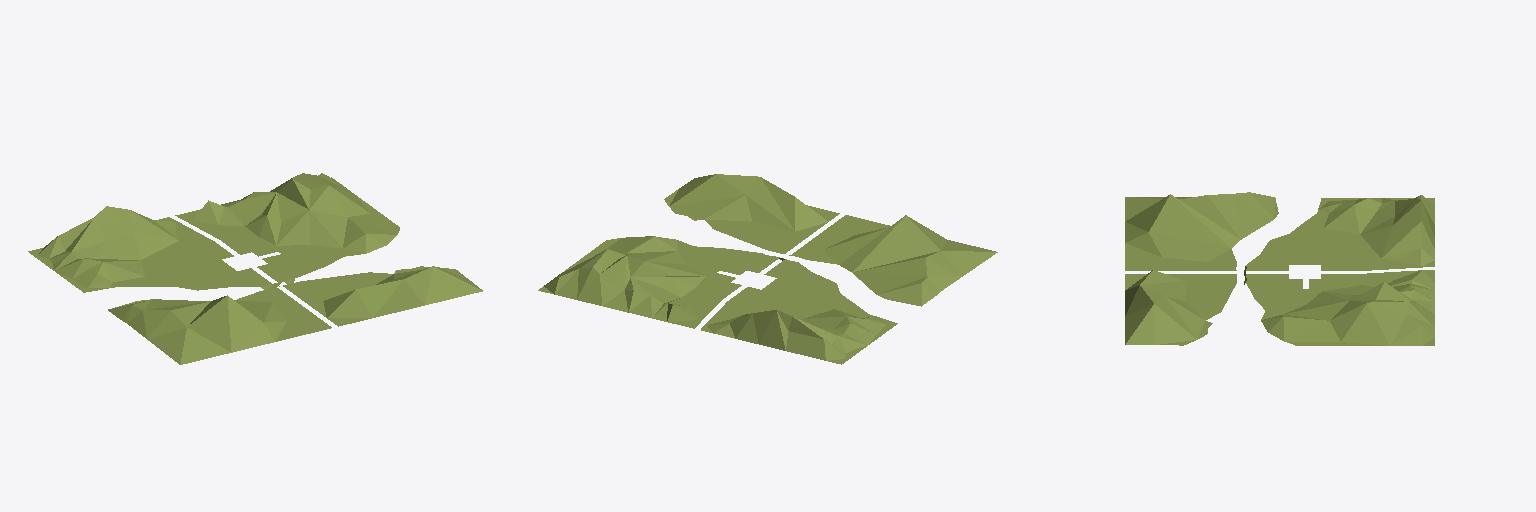
The model's file is sol_herbe.obj.
3 views of the same model, side by side, from view 1: azimuth 30°, elevation 25°; view 2: azimuth 150°, elevation 25°; view 3: azimuth 270°, elevation 25° (orthographic).
Visible parts, largest first — view 1: Mesh1 Model, Mesh2 Model; view 2: Mesh1 Model, Mesh2 Model; view 3: Mesh1 Model, Mesh2 Model.
Boxes of the visible parts, box(x1,y1,x2,y2) form: Mesh1 Model: box(28, 173, 399, 292); Mesh2 Model: box(108, 266, 482, 364); Mesh1 Model: box(538, 236, 897, 364); Mesh2 Model: box(664, 174, 997, 306); Mesh1 Model: box(1244, 195, 1434, 345); Mesh2 Model: box(1125, 192, 1278, 345).
Size of the model in its own units: 403 by 53.15 by 352.